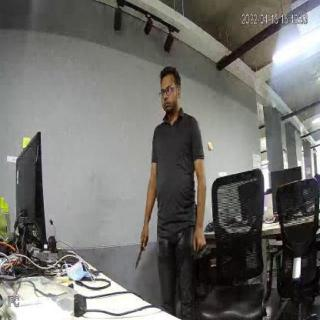knife: (136, 244, 146, 274)
